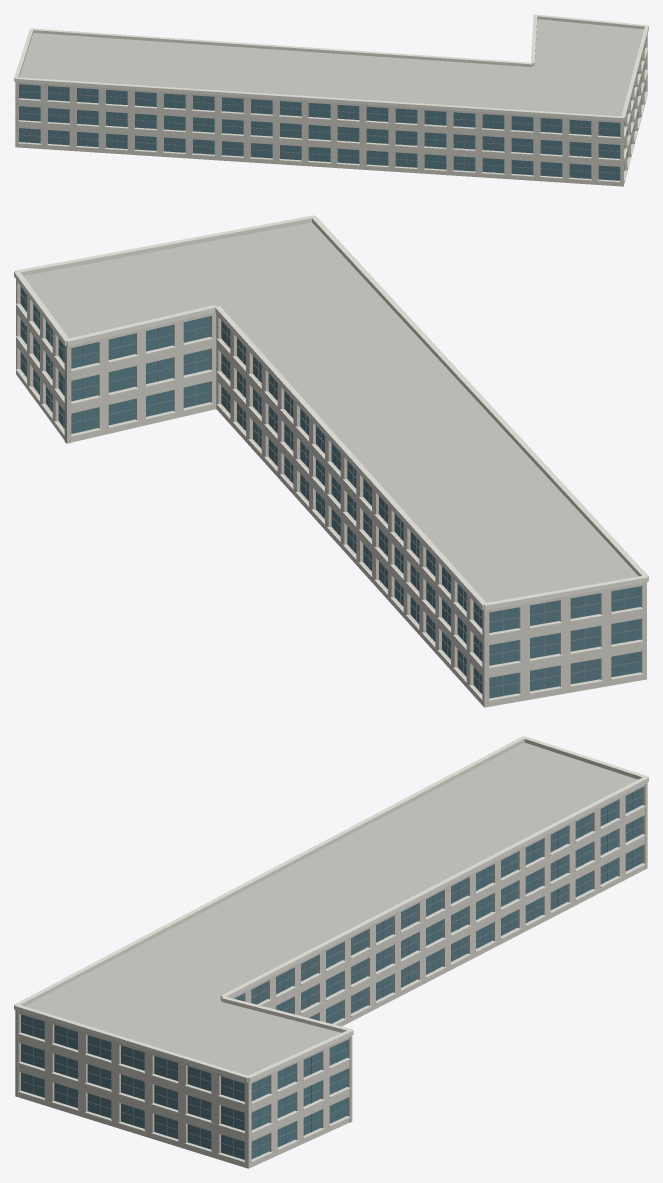
3 renders of one model, top to bottom at view 1: azimuth 30°, elevation 25°; view 2: azimuth 150°, elevation 25°; view 3: azimuth 270°, elevation 25°, orthographic. The views are drawn at different scales.
Parts seen in each view (by area): view 1: roof, wall, glass, trim, metal; view 2: roof, wall, glass, trim, metal; view 3: roof, wall, glass, trim, metal.
Part boxes in pixels (x1=…): roof: x1=19, y1=19, x2=643, y2=116; wall: x1=15, y1=35, x2=647, y2=186; glass: x1=19, y1=45, x2=644, y2=180; trim: x1=14, y1=14, x2=648, y2=182; metal: x1=19, y1=63, x2=645, y2=179; roof: x1=23, y1=222, x2=638, y2=602; wall: x1=16, y1=279, x2=646, y2=707; glass: x1=20, y1=286, x2=640, y2=698; trim: x1=14, y1=215, x2=648, y2=701; metal: x1=20, y1=292, x2=641, y2=696; roof: x1=25, y1=742, x2=637, y2=1075; wall: x1=15, y1=782, x2=647, y2=1168; glass: x1=21, y1=787, x2=642, y2=1159; trim: x1=14, y1=736, x2=648, y2=1162; metal: x1=20, y1=792, x2=642, y2=1156.
Size of the model in its own units: 78.33 by 9.74 by 61.46.
